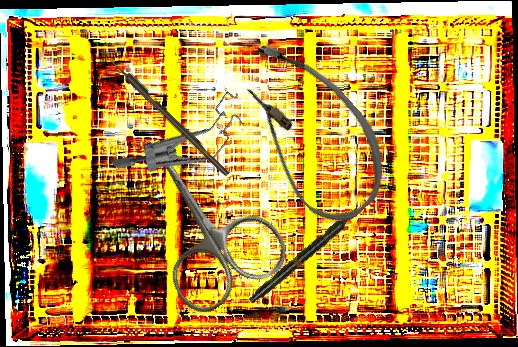Cannula: (206, 26, 411, 237)
Handpiece: (246, 207, 362, 306)
Hook Surgical: (107, 55, 231, 178)
Iris Scissors: (113, 125, 296, 322)
Speculum: (110, 59, 257, 213)
